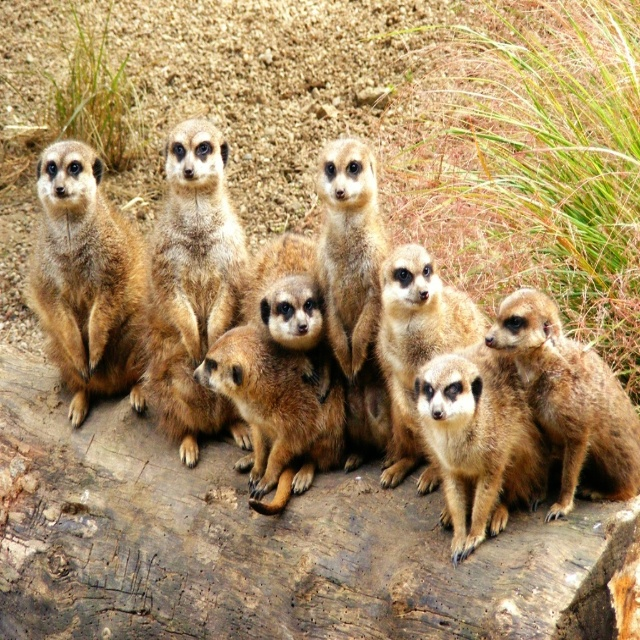Raccoon: (23, 119, 640, 571)
